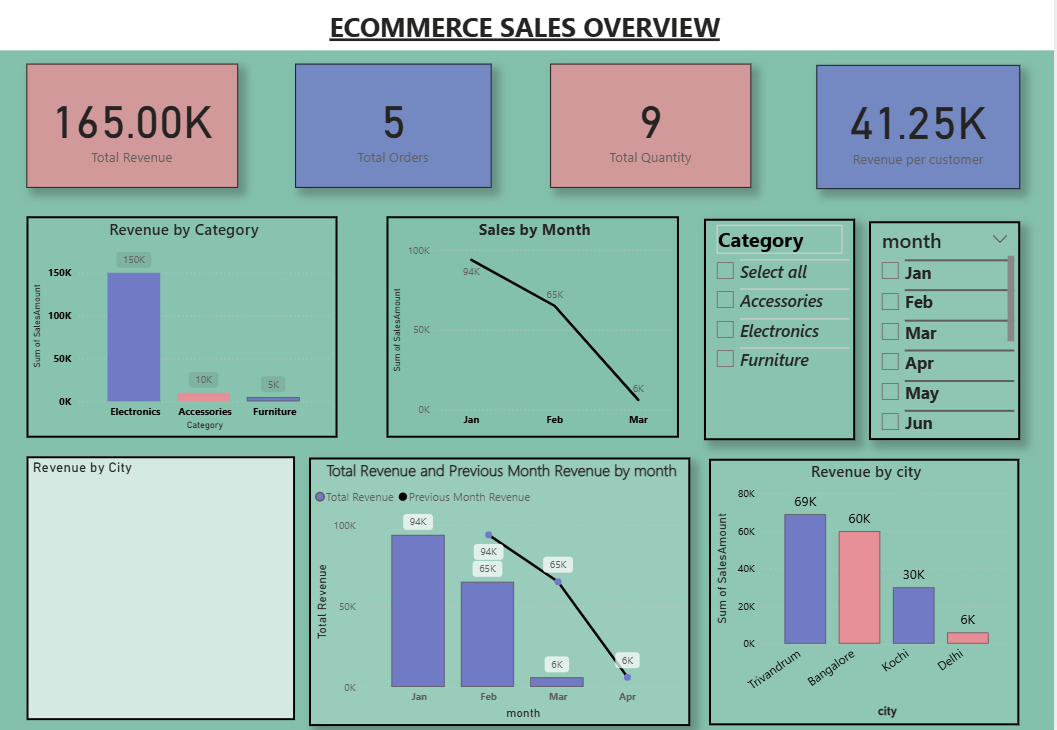

The page's visual inventory and layout, read from the dashboard file:
{"tool":"powerbi","page":{"name":"Page 1","canvas":[1280,900],"ordinal":0},"visuals":[{"type":"textbox","box":[0,0,1280.3,72.7],"z":0},{"type":"card","fields":{"Values":["Measure.Total Revenue"]},"box":[39.2,89,254.9,149.3],"z":1000},{"type":"card","fields":{"Values":["Measure.Total Orders"]},"box":[363.4,89,236.8,149.3],"z":2000},{"type":"card","fields":{"Values":["Measure.Total Quantity"]},"box":[671.1,89,242.8,149.3],"z":3000},{"type":"card","fields":{"Values":["Measure.Revenue per customer"]},"box":[992.3,90.5,245.8,149.3],"z":4000},{"type":"columnChart","title":"Revenue by Category","fields":{"Category":["ecommerce_db products.Category"],"Y":["Sum(ecommerce_db orderdetails.SalesAmount)"]},"box":[39.2,273,375.5,266.9],"z":5000},{"type":"lineChart","title":"Sales by Month","fields":{"Y":["Sum(ecommerce_db orderdetails.SalesAmount)"],"Category":["Date Table.month"]},"box":[473.5,273,352.9,266.9],"z":6000},{"type":"map","title":"Revenue by City","fields":{"Category":["ecommerce_db customers.city"],"Series":["ecommerce_db orderdetails.SalesAmount"]},"box":[39.2,562.5,324.2,318.2],"z":7000},{"type":"slicer","fields":{"Values":["ecommerce_db products.Category"]},"box":[856.6,276,182.5,266.9],"z":8000},{"type":"slicer","fields":{"Values":["Date Table.month"]},"box":[1055.6,279,182.5,263.9],"z":9000},{"type":"lineClusteredColumnComboChart","fields":{"Category":["Date Table.month"],"Y":["Measure.Total Revenue"],"Y2":["Measure.Previous Month Revenue"]},"box":[380,564,460,324.2],"z":10000},{"type":"columnChart","title":"Revenue by city","fields":{"Category":["ecommerce_db customers.city"],"Y":["Sum(ecommerce_db orderdetails.SalesAmount)"]},"box":[863,565.1,374.5,321.7],"z":11000}]}

Visuals, with their boxes in screenshot pixels (x1, y1, x2, y2), scaled from the page's 1280x900 canvas onto the 1057x730 screenshot:
textbox: x1=0, y1=0, x2=1056, y2=59
card - Measure.Total Revenue: x1=32, y1=72, x2=243, y2=193
card - Measure.Total Orders: x1=300, y1=72, x2=496, y2=193
card - Measure.Total Quantity: x1=554, y1=72, x2=755, y2=193
card - Measure.Revenue per customer: x1=819, y1=73, x2=1022, y2=195
"Revenue by Category" columnChart: x1=32, y1=221, x2=342, y2=438
"Sales by Month" lineChart: x1=391, y1=221, x2=682, y2=438
"Revenue by City" map: x1=32, y1=456, x2=300, y2=714
slicer - ecommerce_db products.Category: x1=707, y1=224, x2=858, y2=440
slicer - Date Table.month: x1=872, y1=226, x2=1022, y2=440
lineClusteredColumnComboChart - Date Table.month x Measure.Total Revenue: x1=314, y1=457, x2=694, y2=720
"Revenue by city" columnChart: x1=713, y1=458, x2=1022, y2=719
